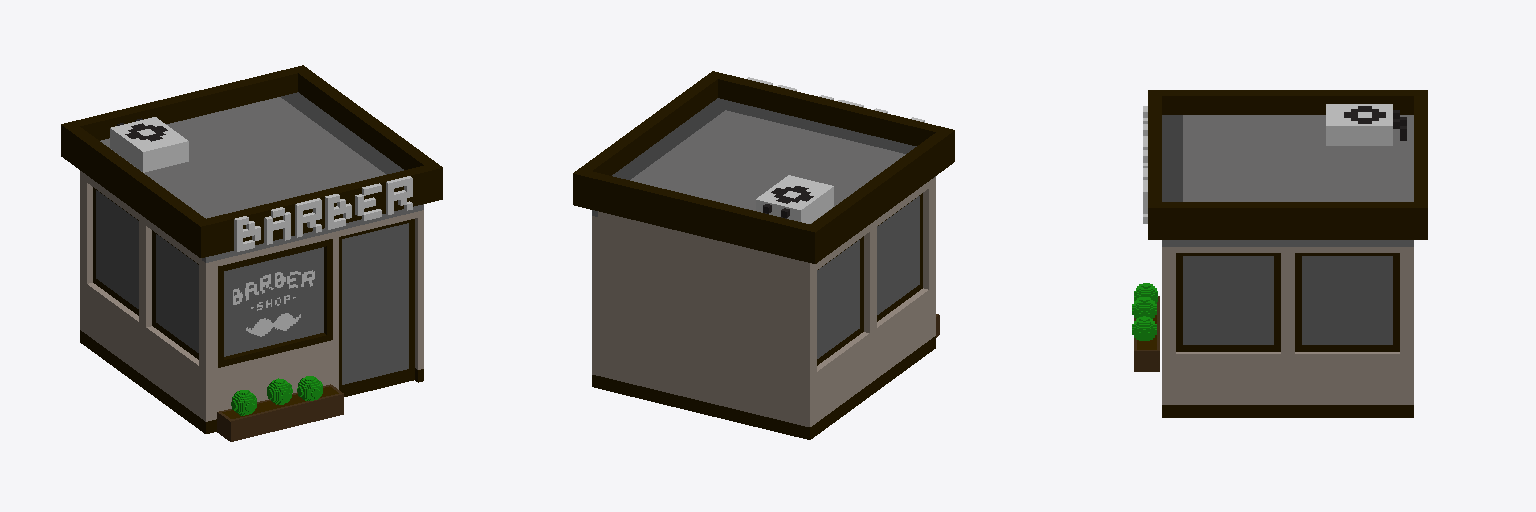
3 renders of one model, left to right at view 1: azimuth 30°, elevation 25°; view 2: azimuth 150°, elevation 25°; view 3: azimuth 270°, elevation 25°, orthographic.
Parts seen in each view (by area): view 1: object 1; view 2: object 1; view 3: object 1.
Part boxes in pixels (bbox=[...]): object 1: bbox=[61, 65, 442, 441]; object 1: bbox=[573, 71, 954, 439]; object 1: bbox=[1132, 90, 1427, 417].
Size of the model in its own units: 16 by 13.7 by 16.9.
Materials: 1 (1 with a texture image).